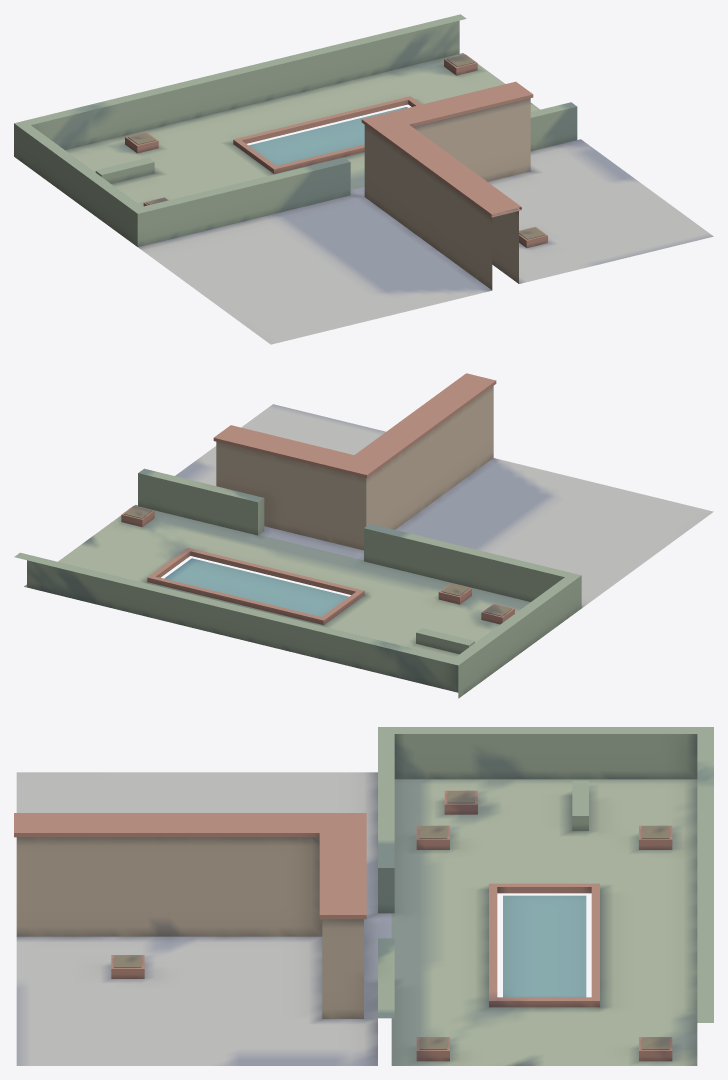
3 renders of one model, top to bottom at view 1: azimuth 30°, elevation 25°; view 2: azimuth 150°, elevation 25°; view 3: azimuth 270°, elevation 25°, orthographic. The views are drawn at different scales.
Parts seen in each view (by area): view 1: t; view 2: t; view 3: t.
Part boxes in pixels (x1,y1,x2,y2): t: [14, 14, 713, 344]; t: [14, 373, 713, 698]; t: [14, 727, 713, 1065].
Bounding box in the file's own units: 50.4 × 8.35 × 50.4.
